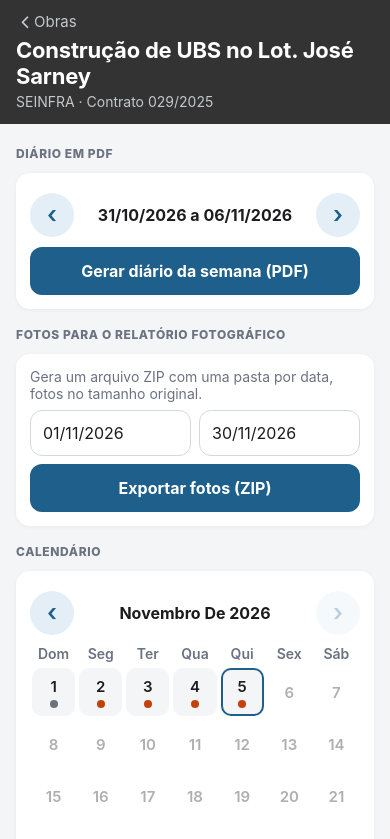
Test: DiasObraTela — exportar fotos › avisa quando não há fotos no período
The width and height of the screenshot is (390, 839).
Replace the text in the field with test id "fotos-de" with "01/09/2026" at point(110, 433), box [30,410,191,456]
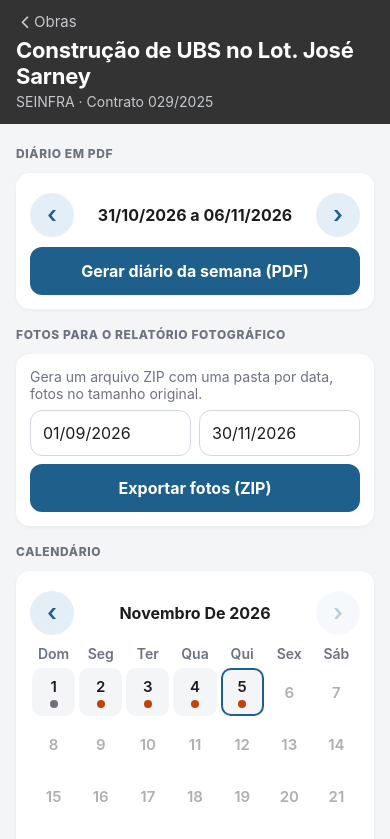
Replace the text in the field with test id "fotos-ate" with "30/09/2026" at point(280, 433), box [199,410,360,456]
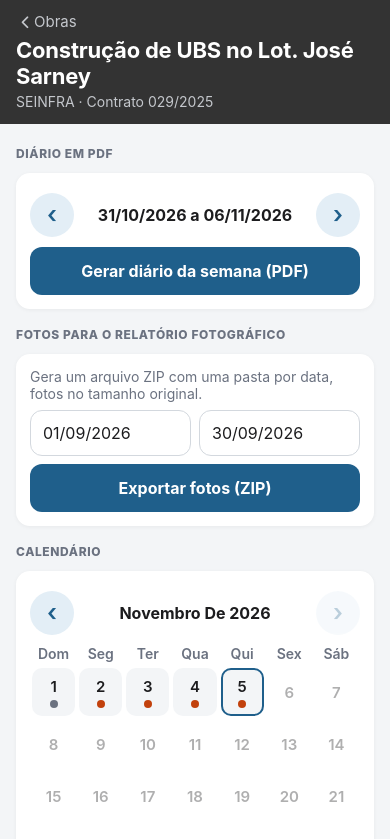
Click the element with test id "exportar-fotos" at point(195, 488), box [30,464,360,512]
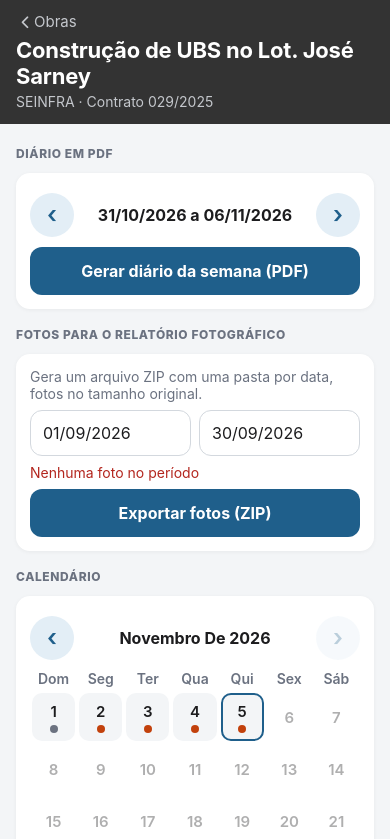
Expected: the text "Nenhuma foto no período" is shown, [30,464,199,481]
